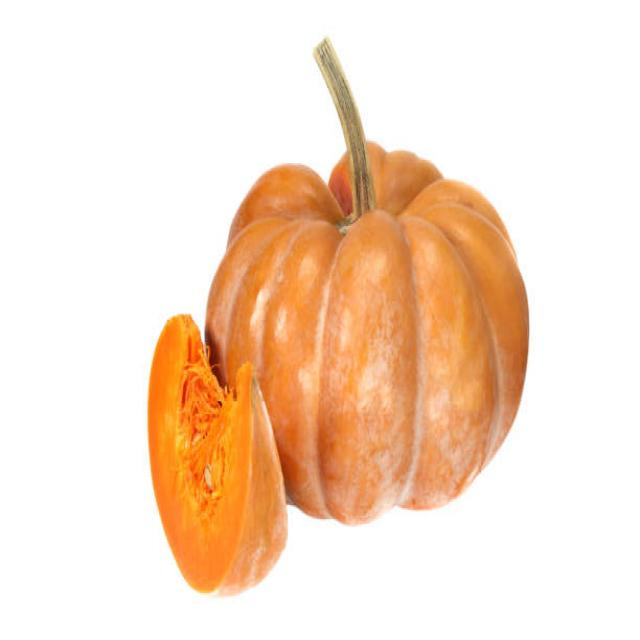Pumpkin: (270, 126, 532, 523), (146, 313, 280, 596)
